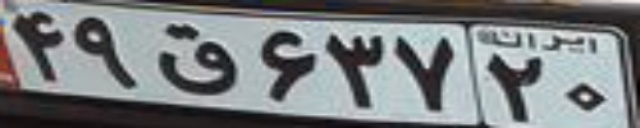0: (558, 81, 610, 114)
2: (483, 51, 546, 121)
3: (324, 33, 388, 109)
4: (12, 11, 67, 84)
6: (255, 28, 320, 102)
7: (391, 32, 459, 111)
9: (73, 14, 131, 90)
ghaf: (153, 22, 237, 96)
